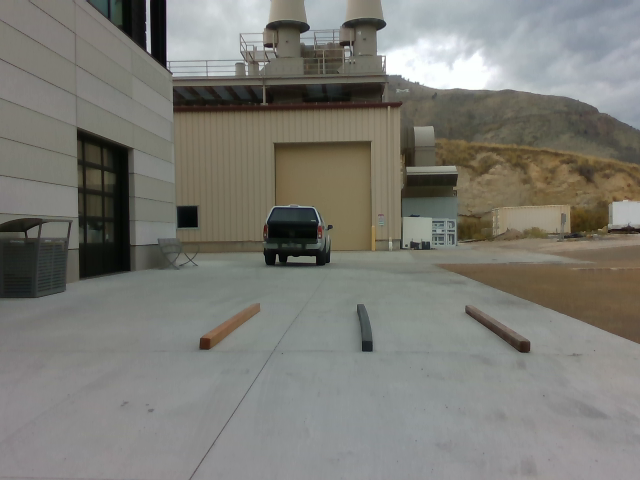dunnage: (194, 296, 536, 361)
